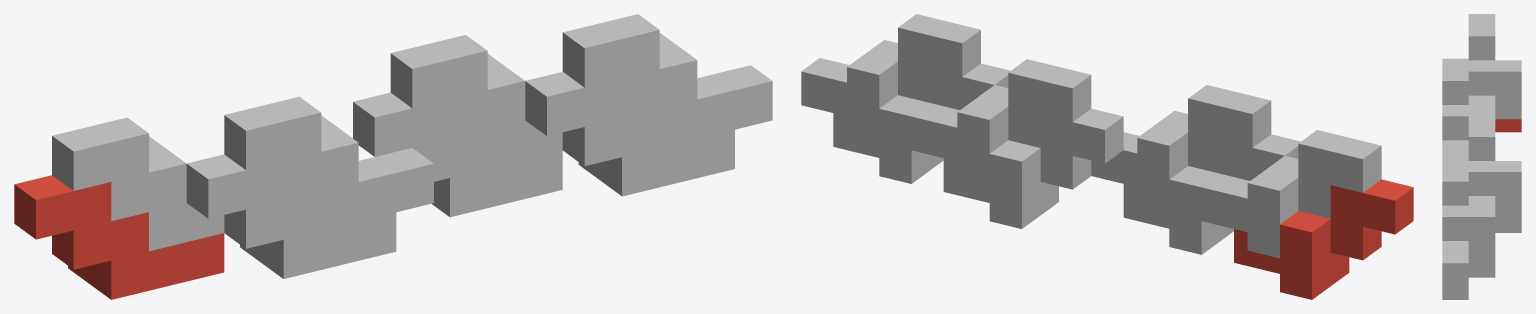
Rendered from tiling.obj.
3 views of the same model, side by side, from view 1: azimuth 30°, elevation 25°; view 2: azimuth 150°, elevation 25°; view 3: azimuth 270°, elevation 25° (orthographic). The views are drawn at different scales.
Parts seen in each view (by area): view 1: copy_1_domain_8, copy_1_domain_4, copy_1_domain_2, copy_1_domain_1, copy_1_domain_6, copy_1_domain_5, copy_1_domain_7, copy_1_domain_3; view 2: copy_1_domain_7, copy_1_domain_3, copy_1_domain_8, copy_1_domain_5, copy_1_domain_1, copy_1_domain_4, copy_1_domain_2, copy_1_domain_6; view 3: copy_1_domain_8, copy_1_domain_3, copy_1_domain_7, copy_1_domain_4, copy_1_domain_6, copy_1_domain_1, copy_1_domain_5.
Part boxes in pixels (x1,y1,x2,y2): copy_1_domain_8: (562,14,772,147); copy_1_domain_4: (224,96,433,230); copy_1_domain_2: (186,154,396,278); copy_1_domain_1: (14,175,224,299); copy_1_domain_6: (525,71,734,196); copy_1_domain_5: (353,92,562,217); copy_1_domain_7: (390,35,562,168); copy_1_domain_3: (52,117,224,251); copy_1_domain_7: (911,59,1091,187); copy_1_domain_3: (1201,130,1381,258); copy_1_domain_8: (801,14,980,142); copy_1_domain_5: (943,108,1123,228); copy_1_domain_1: (1234,179,1413,299); copy_1_domain_4: (1091,85,1271,212); copy_1_domain_2: (1123,134,1300,254); copy_1_domain_6: (833,63,1010,183); copy_1_domain_8: (1442,159,1495,287); copy_1_domain_3: (1468,14,1521,119); copy_1_domain_7: (1468,114,1521,219); copy_1_domain_4: (1442,58,1495,159); copy_1_domain_6: (1442,265,1495,299); copy_1_domain_1: (1495,119,1521,132); copy_1_domain_5: (1495,220,1521,232).
Bounding box in the file's own units: 19 × 4 × 3.
